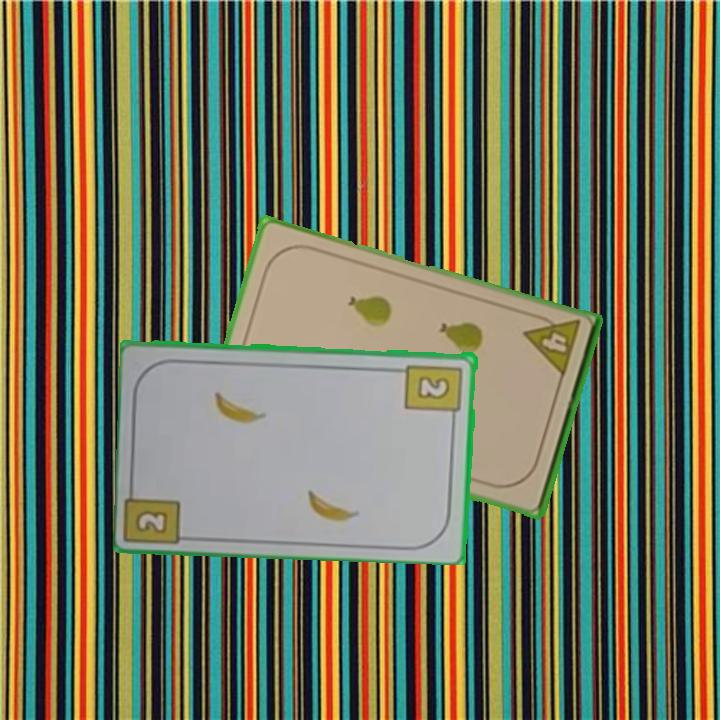2b: (403, 360, 465, 424), (132, 506, 171, 536)
4p: (520, 309, 583, 380)
